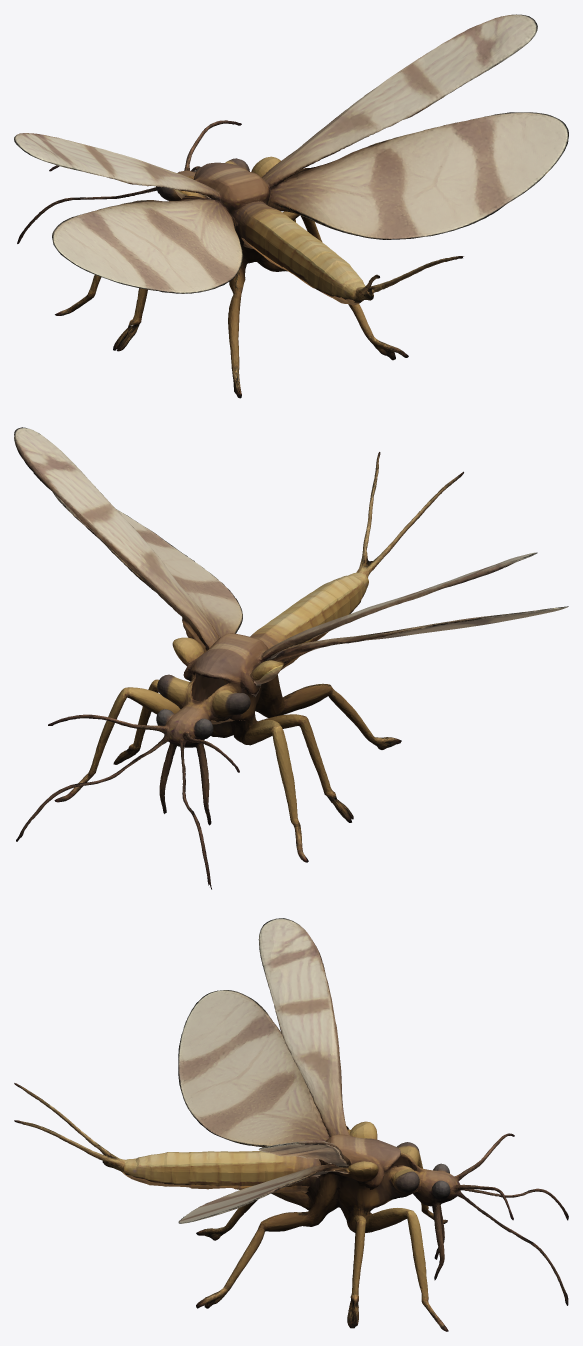
3 renders of one model, top to bottom at view 1: azimuth 30°, elevation 25°; view 2: azimuth 150°, elevation 25°; view 3: azimuth 270°, elevation 25°, orthographic. The views are drawn at different scales.
Visible parts, largest first — view 1: world; view 2: world; view 3: world.
Part boxes in pixels (left/top/right/bottom): world: left=14, top=14, right=568, bottom=398; world: left=14, top=427, right=568, bottom=889; world: left=14, top=918, right=568, bottom=1331.
Bounding box in the file's own units: 0.9679 × 0.4893 × 1.
Materials: 2 (2 with a texture image).
